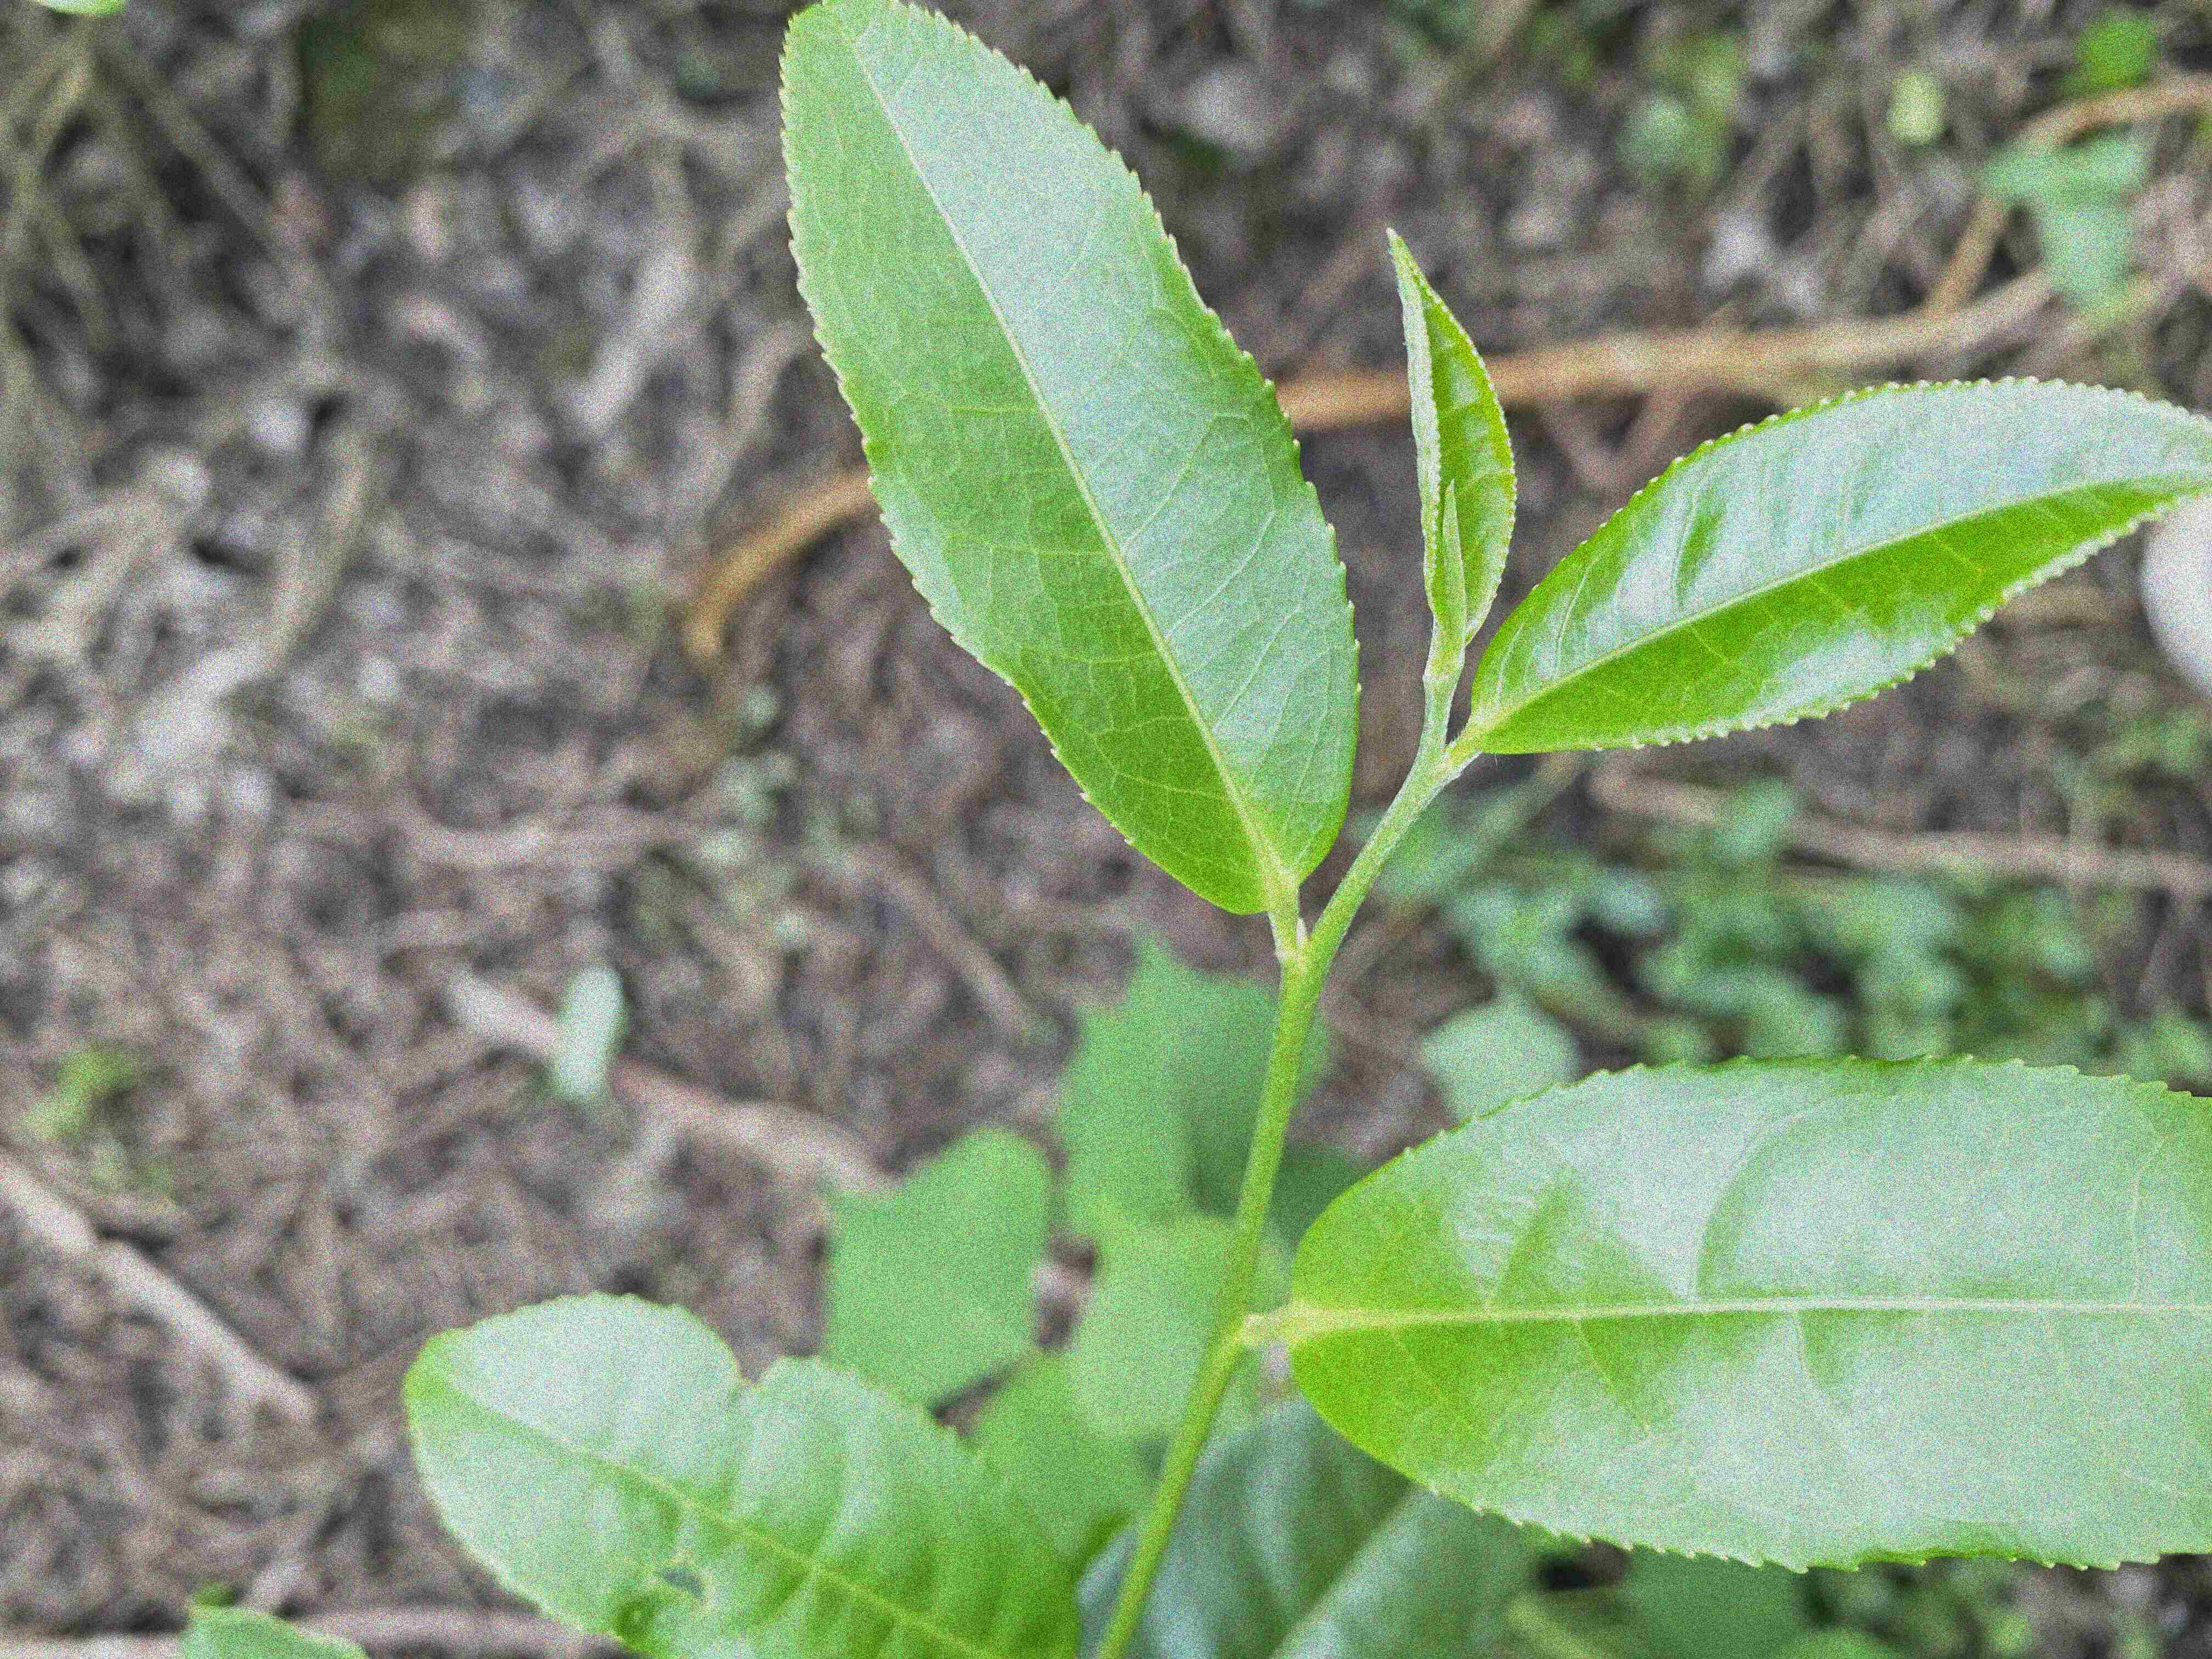chihuo_high: (401, 1293, 1089, 1656)
healthy: (773, 0, 1362, 915), (1289, 1047, 2209, 1575), (1470, 371, 2210, 758)
